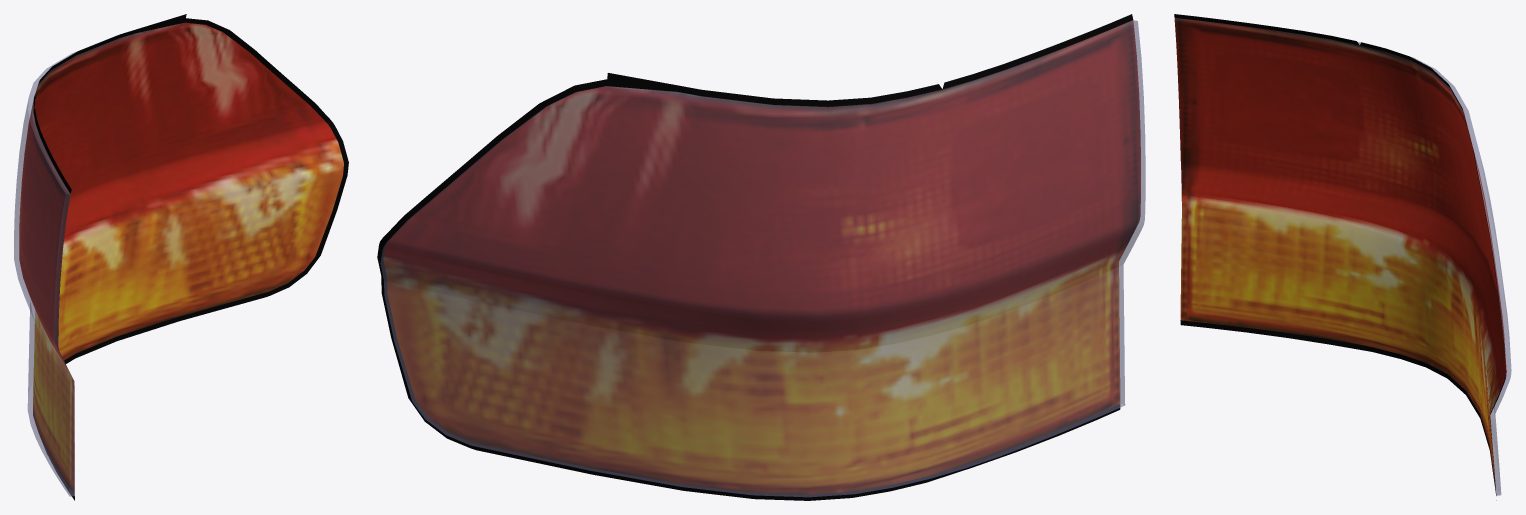
3 views of the same model, side by side, from view 1: azimuth 30°, elevation 25°; view 2: azimuth 150°, elevation 25°; view 3: azimuth 270°, elevation 25° (orthographic). The views are drawn at different scales.
Parts seen in each view (by area): view 1: H611_541C_L_1_N_H611_541C_L, H611_541C_L_H611_541C_L_2_DTaSI, H611_541C_L_H611_541C_L_3_D; view 2: H611_541C_L_H611_541C_L_2_DTaSI, H611_541C_L_1_N_H611_541C_L, H611_541C_L_H611_541C_L_3_D; view 3: H611_541C_L_1_N_H611_541C_L, H611_541C_L_H611_541C_L_3_D, H611_541C_L_H611_541C_L_2_DTaSI.
Part boxes in pixels (x1,y1,x2,y2): H611_541C_L_1_N_H611_541C_L: [19, 22, 343, 495]; H611_541C_L_H611_541C_L_2_DTaSI: [14, 35, 116, 496]; H611_541C_L_H611_541C_L_3_D: [33, 14, 348, 500]; H611_541C_L_H611_541C_L_2_DTaSI: [380, 20, 1145, 497]; H611_541C_L_1_N_H611_541C_L: [383, 20, 1140, 494]; H611_541C_L_H611_541C_L_3_D: [377, 14, 1133, 500]; H611_541C_L_1_N_H611_541C_L: [1174, 18, 1506, 484]; H611_541C_L_H611_541C_L_3_D: [1174, 14, 1506, 500]; H611_541C_L_H611_541C_L_2_DTaSI: [1358, 42, 1511, 495].
Bounding box in the file's own units: 30.84 × 20.54 × 20.35.
